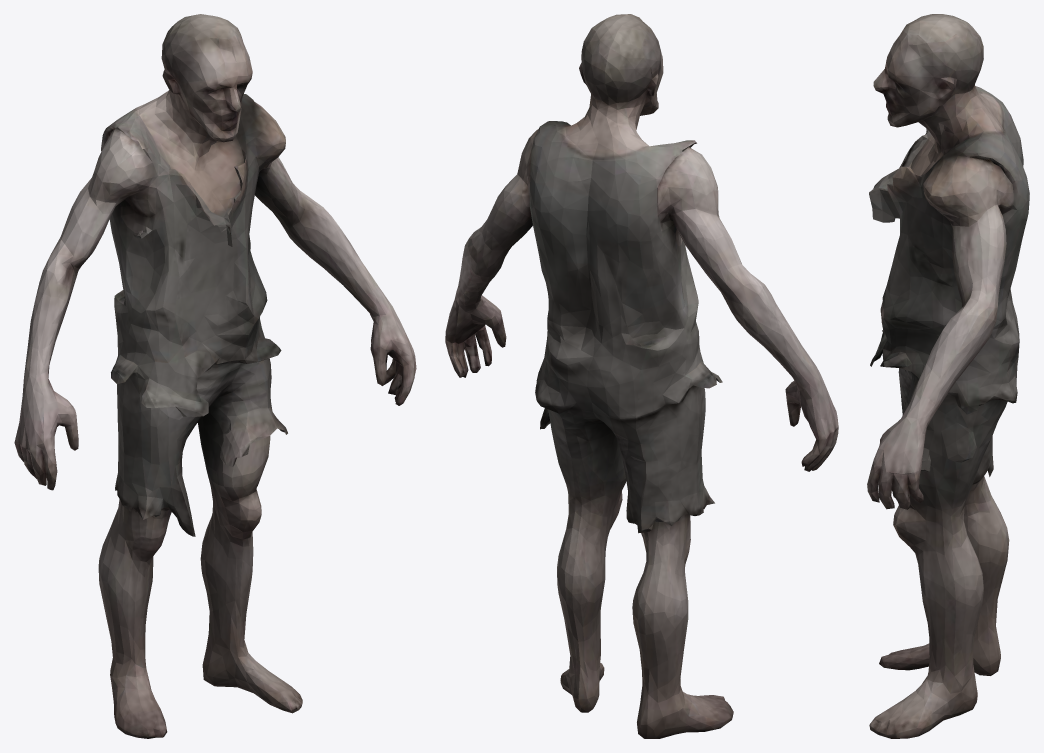
Rendered from zombie.glb.
3 views of the same model, side by side, from view 1: azimuth 30°, elevation 25°; view 2: azimuth 150°, elevation 25°; view 3: azimuth 270°, elevation 25° (orthographic).
Parts seen in each view (by area): view 1: world; view 2: world; view 3: world.
Part boxes in pixels (box(x1,y1,x2,y2)): world: box(14, 14, 416, 738); world: box(445, 14, 838, 738); world: box(867, 14, 1029, 738).
Size of the model in its own units: 0.586 by 0.9988 by 0.2146.
1 material, 1 textured.
